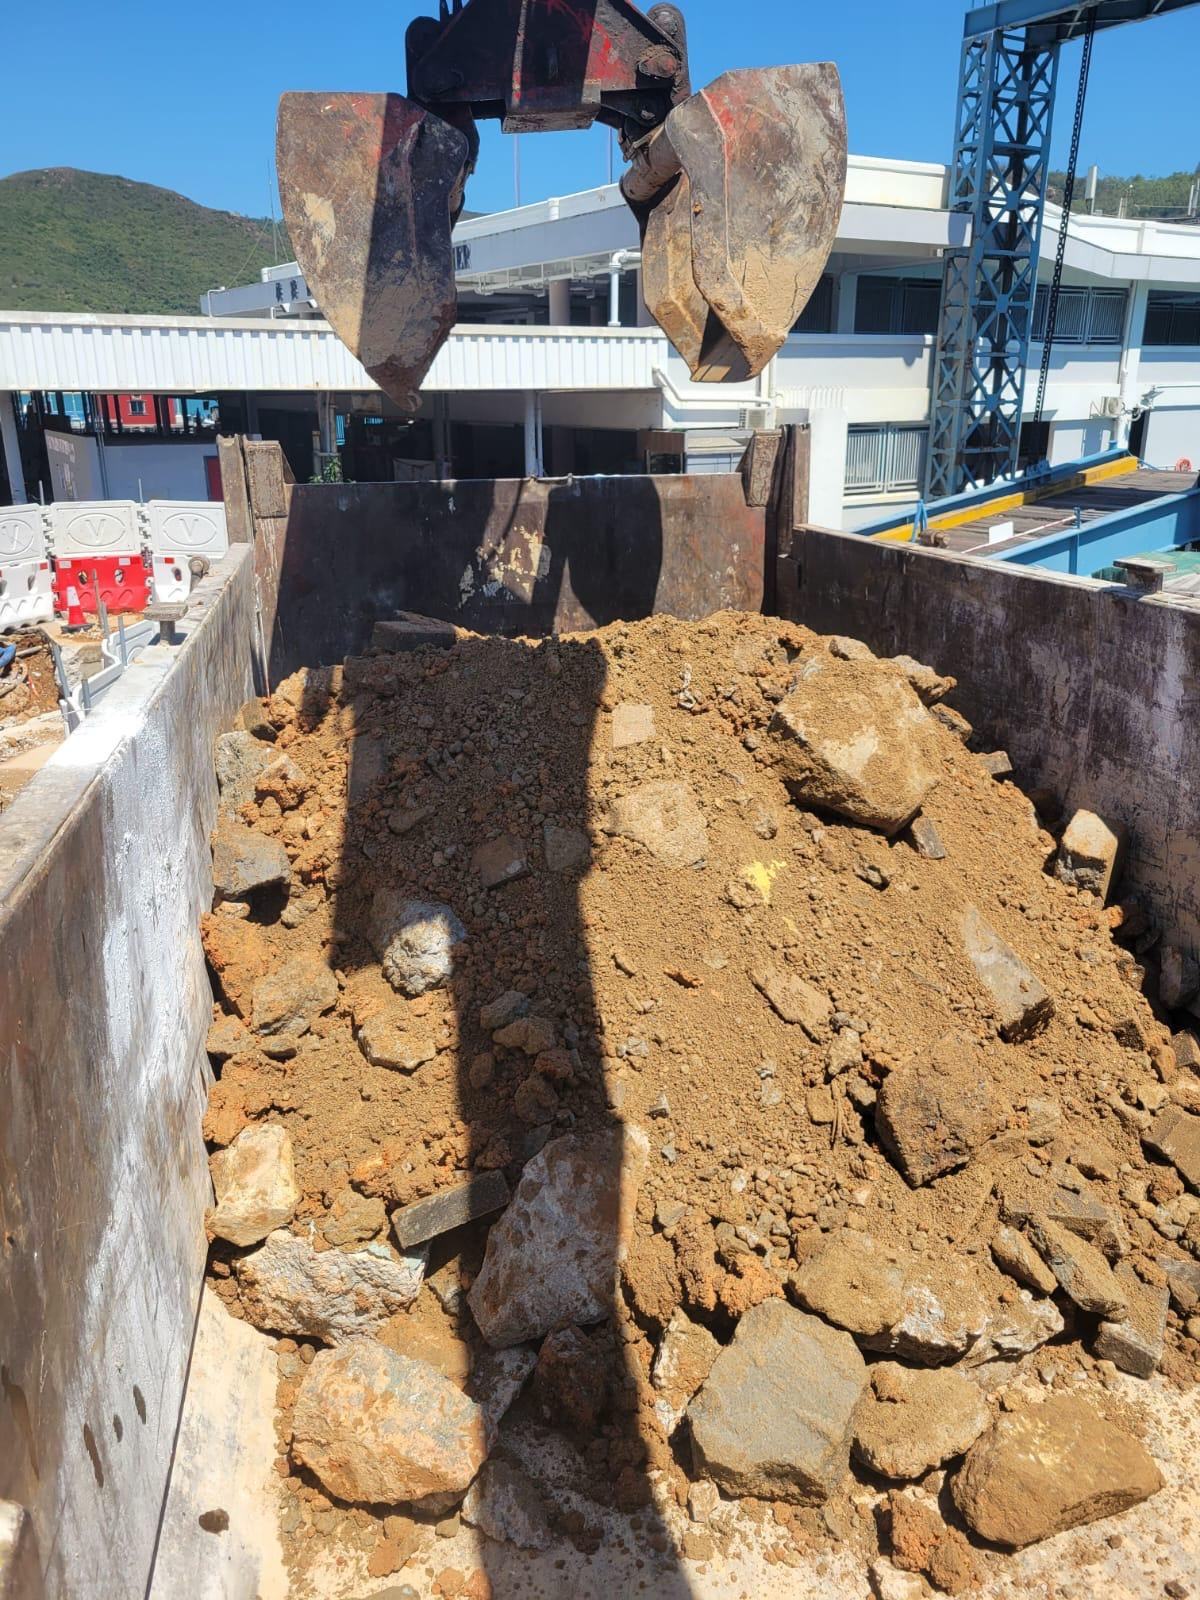dirt: (187, 605, 1197, 1597)
stone: (464, 1117, 648, 1348), (682, 1295, 868, 1504), (787, 1226, 1063, 1367), (287, 1333, 488, 1506), (949, 1390, 1163, 1546), (766, 654, 945, 831), (850, 1358, 993, 1480), (205, 1119, 301, 1246), (373, 896, 466, 995), (1053, 806, 1118, 905)
